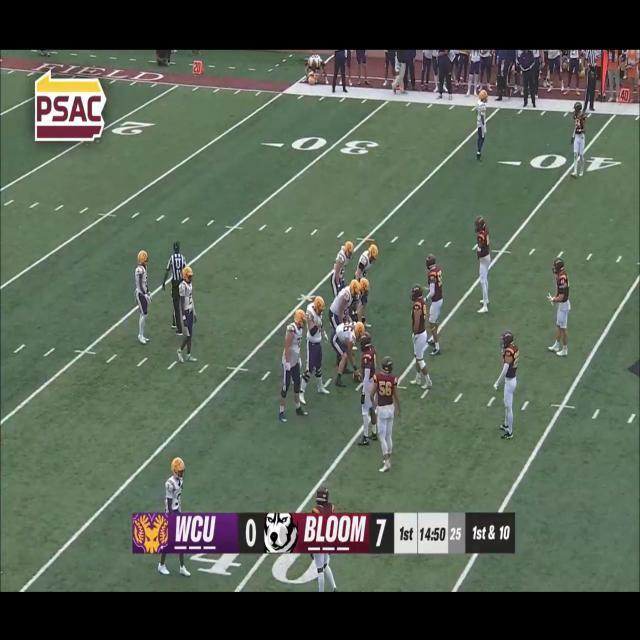football: (350, 367, 366, 386)
